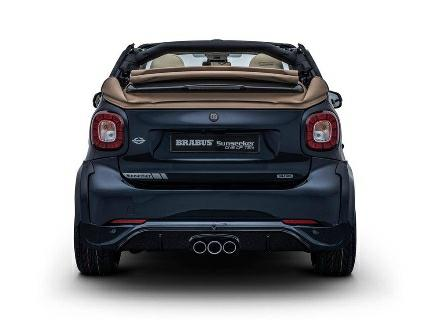巴博斯-smartfortwo: (69, 34, 365, 291)
